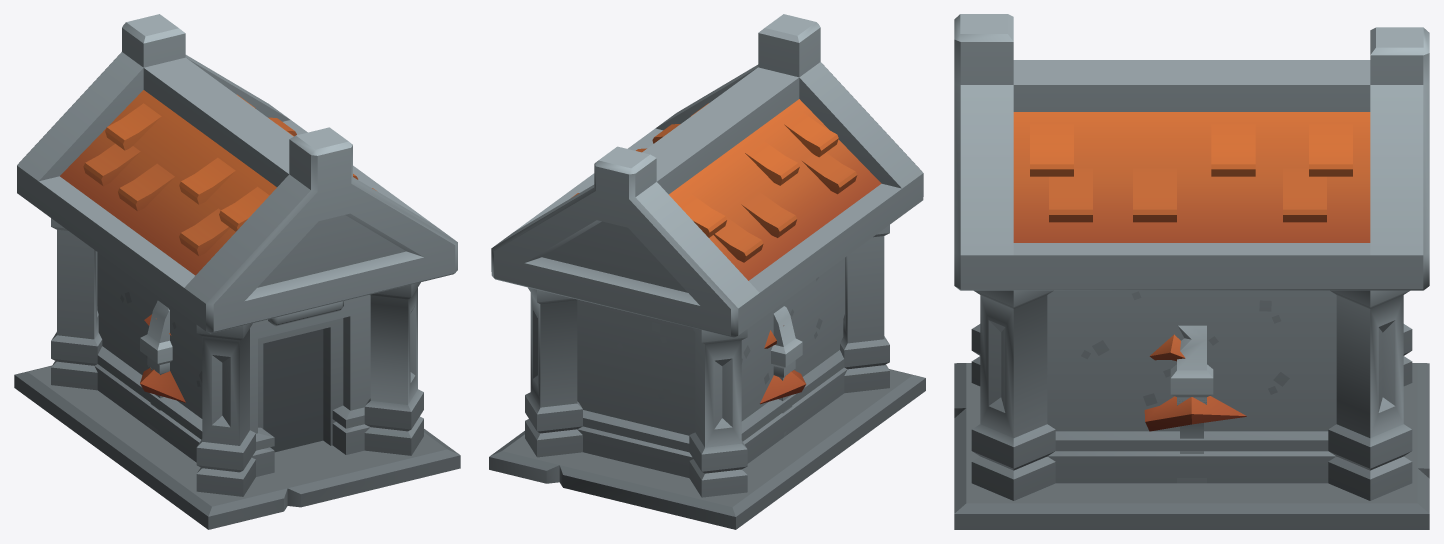
The model's file is halloween.glb.
3 views of the same model, side by side, from view 1: azimuth 30°, elevation 25°; view 2: azimuth 150°, elevation 25°; view 3: azimuth 270°, elevation 25° (orthographic). The views are drawn at different scales.
Visible parts, largest first — view 1: crypt, arch_gate, tree_pine_orange_large; view 2: crypt, arch_gate, tree_pine_orange_large; view 3: crypt, arch_gate, tree_pine_orange_large.
Boxes of the visible parts, left/top/right/bottom form: crypt: left=14, top=14, right=460, bottom=529; arch_gate: left=140, top=300, right=172, bottom=410; tree_pine_orange_large: left=140, top=314, right=185, bottom=402; crypt: left=489, top=14, right=925, bottom=529; arch_gate: left=771, top=306, right=802, bottom=377; tree_pine_orange_large: left=760, top=325, right=806, bottom=404; crypt: left=954, top=14, right=1429, bottom=529; arch_gate: left=1170, top=325, right=1213, bottom=483; tree_pine_orange_large: left=1144, top=334, right=1246, bottom=431.
Bounding box in the file's own units: 6 × 8.55 × 8.
Materials: 1 (1 with a texture image).
